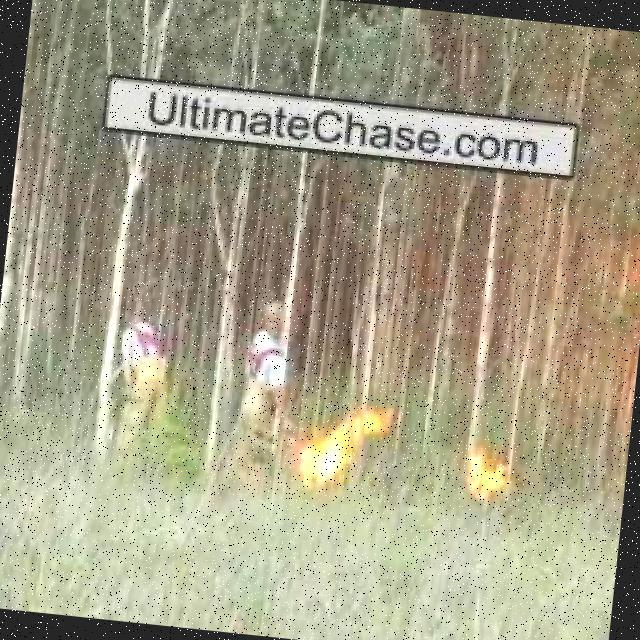Fire: (291, 401, 395, 497), (465, 452, 519, 508)
